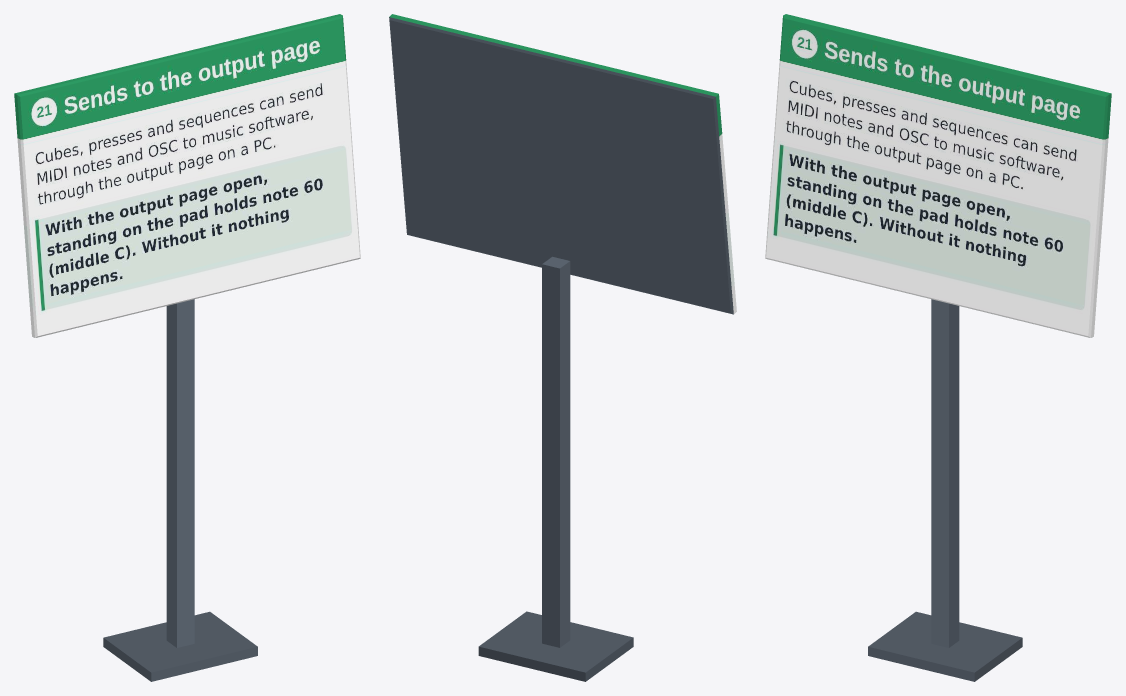
The model's file is 21-sends-to-the-output-page.glb.
3 views of the same model, side by side, from view 1: azimuth 30°, elevation 25°; view 2: azimuth 150°, elevation 25°; view 3: azimuth 330°, elevation 25° (orthographic).
Visible parts, largest first — view 1: board; view 2: board; view 3: board.
Boxes of the visible parts, bbox=[...] form: board: bbox=[14, 14, 360, 681]; board: bbox=[389, 14, 736, 681]; board: bbox=[765, 14, 1111, 681].
Size of the model in its own units: 1.1 by 1.92 by 0.28.
1 material, 1 textured.
